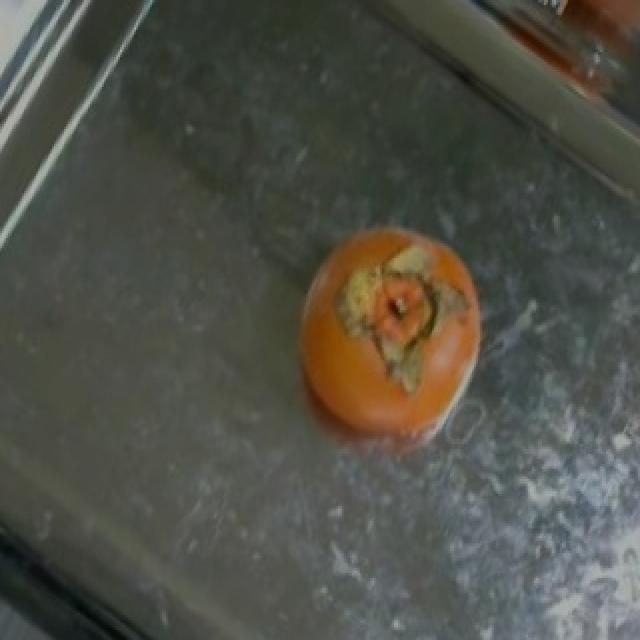Fruit: (268, 204, 506, 494)
